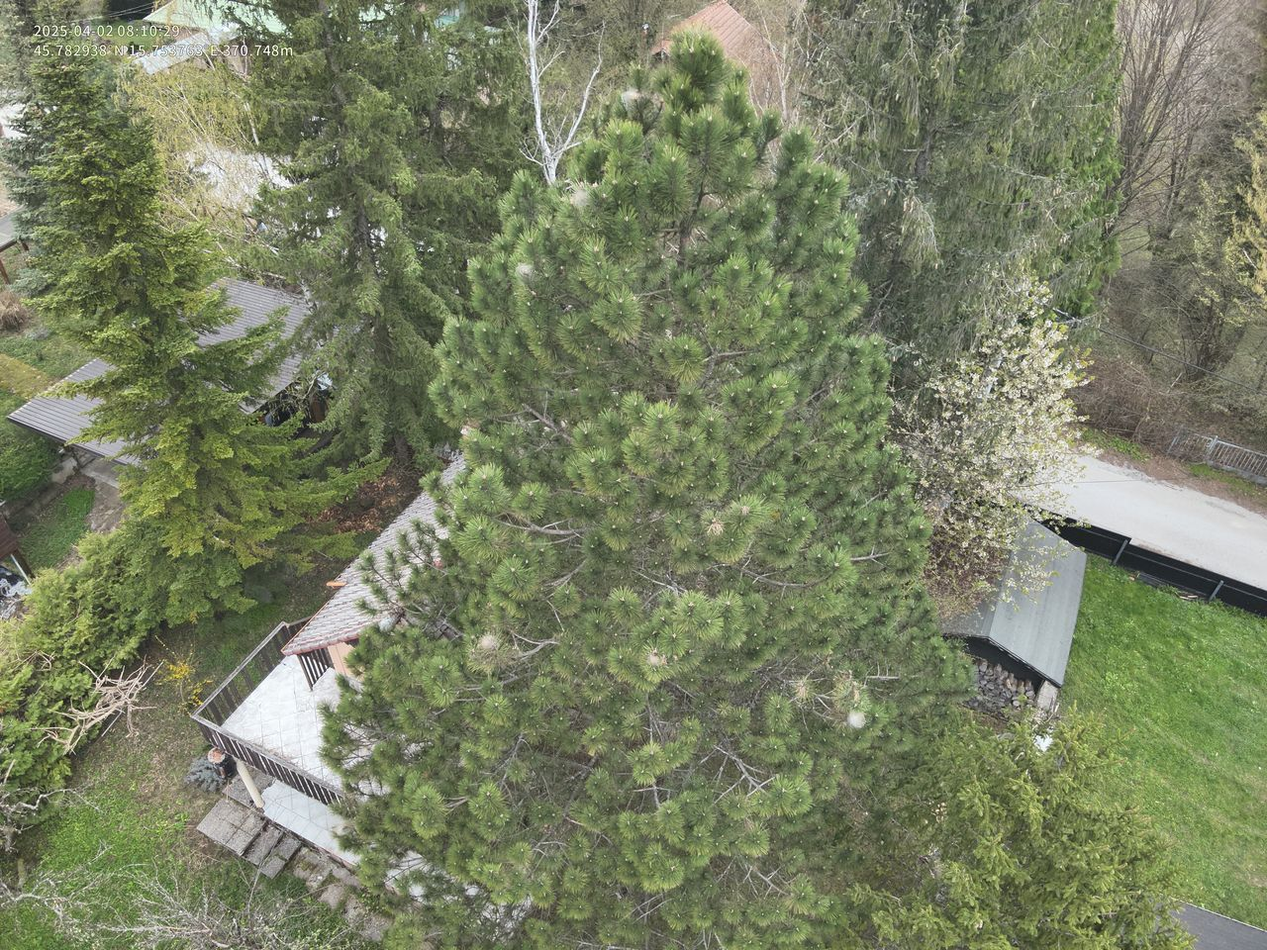thaumatopoea pityocampa jajno gnijezdo: (620, 86, 665, 125), (440, 457, 474, 486), (474, 628, 505, 658), (510, 256, 539, 286), (641, 649, 671, 668), (406, 881, 428, 903), (845, 708, 865, 731), (462, 882, 482, 902)
